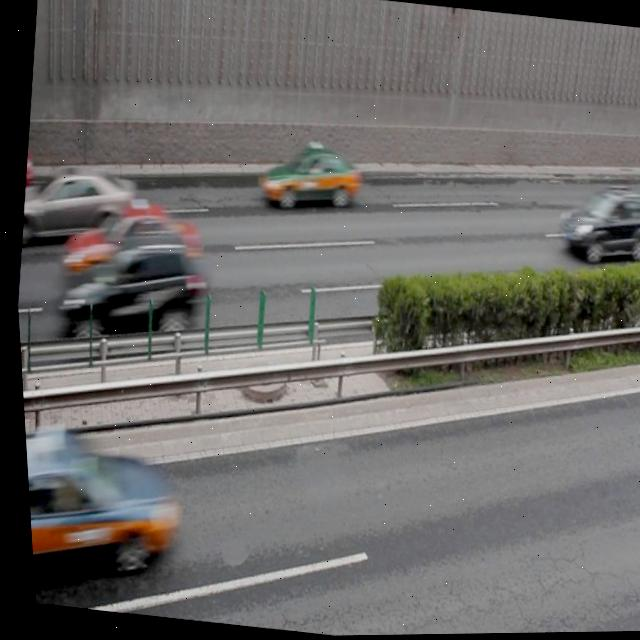car: (19, 416, 184, 601), (45, 219, 208, 352), (53, 194, 201, 292), (15, 158, 138, 251), (251, 140, 361, 216), (550, 183, 640, 271)
